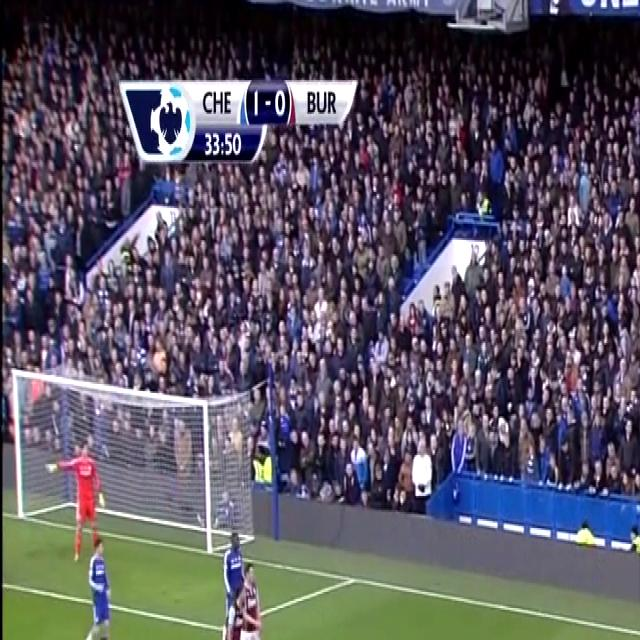goalkeeper: (63, 438, 103, 572)
soccer-player: (78, 530, 119, 640), (217, 517, 246, 640), (229, 565, 266, 640), (71, 631, 117, 640)
